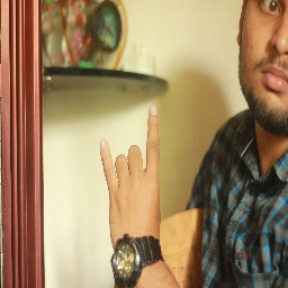V: (101, 105, 174, 247)
